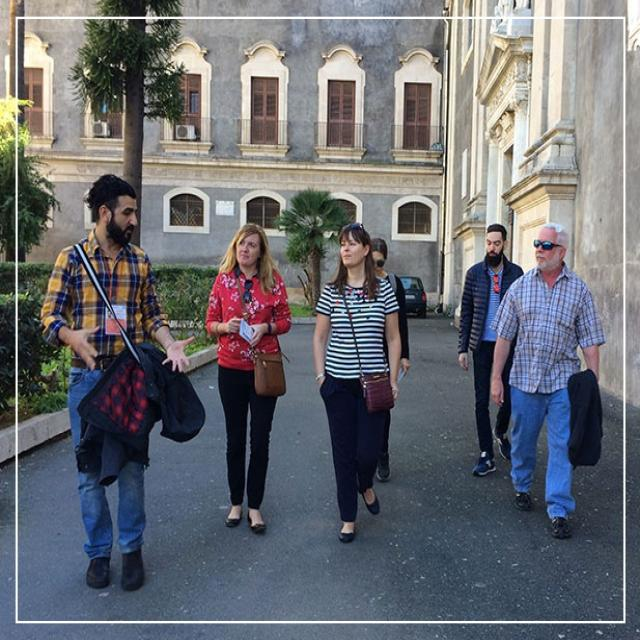body: (34, 168, 210, 597), (486, 218, 606, 542), (310, 220, 408, 547), (203, 221, 296, 538), (455, 222, 527, 478), (370, 236, 412, 484)
